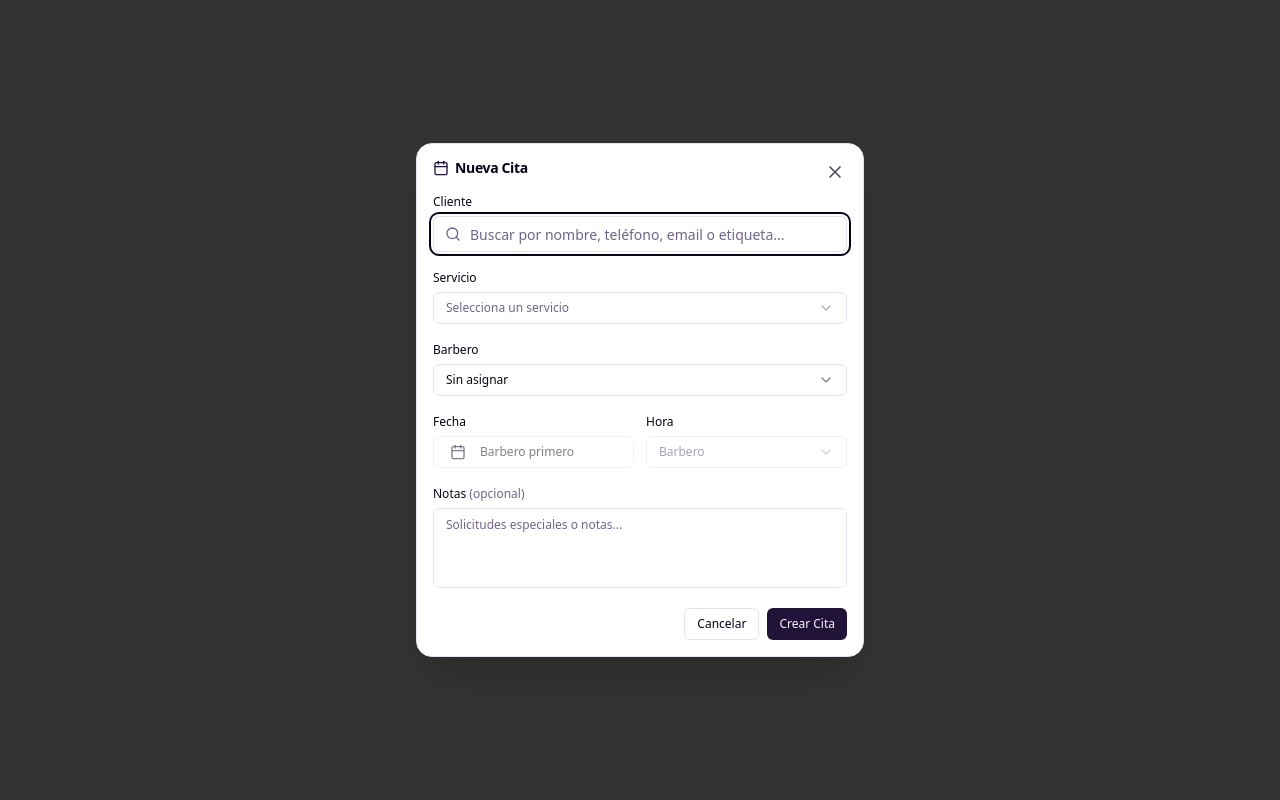
Test case: BookingModal client assignment (create) › filters by phone without country prefix
The width and height of the screenshot is (1280, 800).
Step 1. Type "615 481" into the field with placeholder "Buscar por nombre, teléfono, email o etiqueta..." → (640, 234), box x1=433 y1=216 x2=847 y2=252
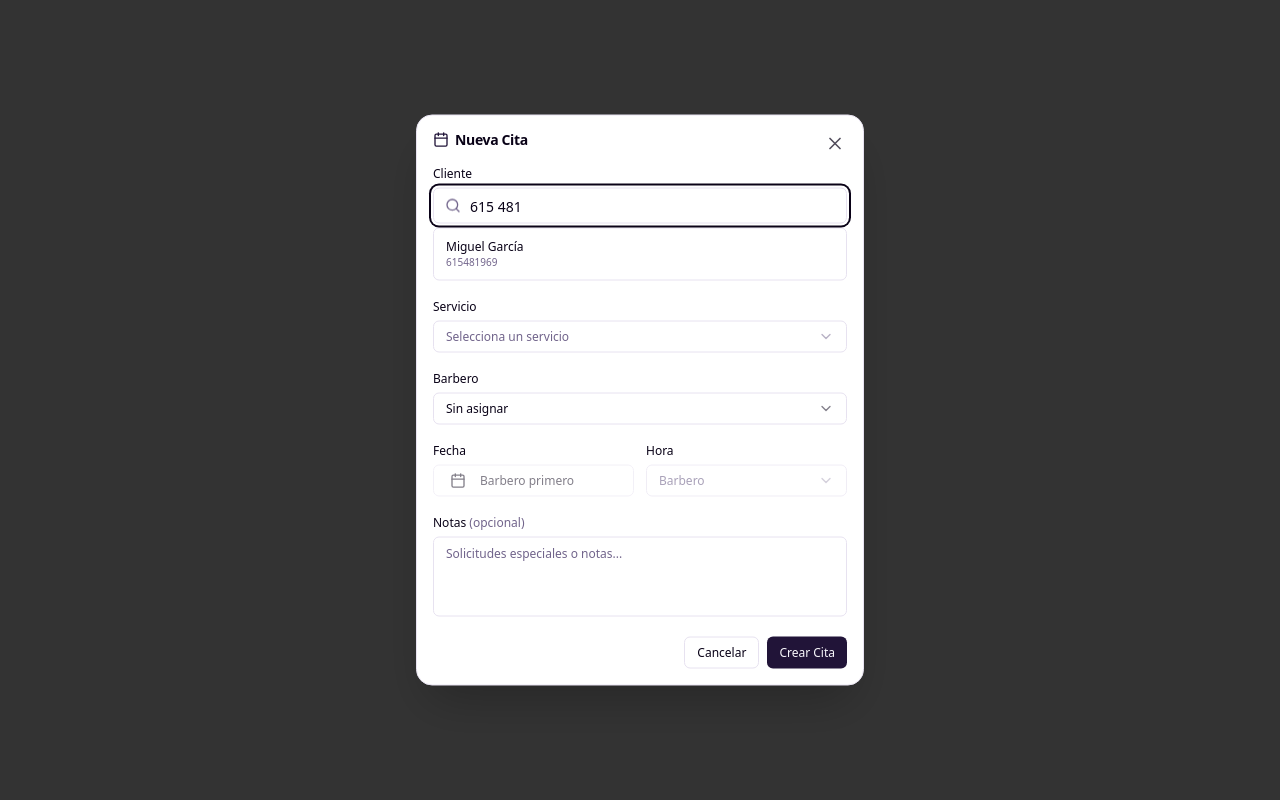
expect the text "Miguel García" is shown: met, box x1=446 y1=238 x2=524 y2=254
